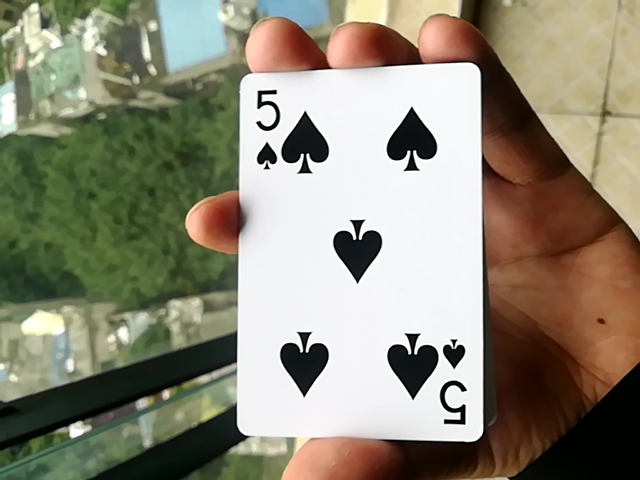ht 5: (233, 52, 474, 451)
